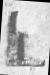Q1: (2, 0, 48, 74)
